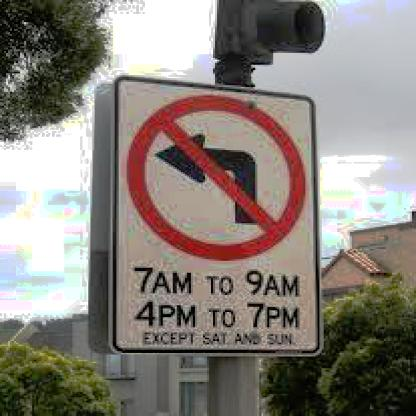No left turn: (128, 88, 304, 256)
